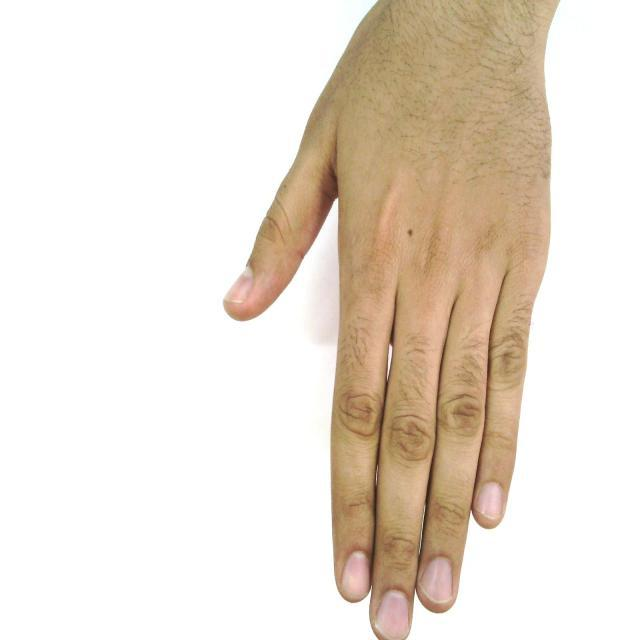Fingernail: (377, 591, 409, 639), (421, 558, 453, 602), (343, 552, 369, 599), (224, 269, 252, 303), (477, 483, 503, 519)
